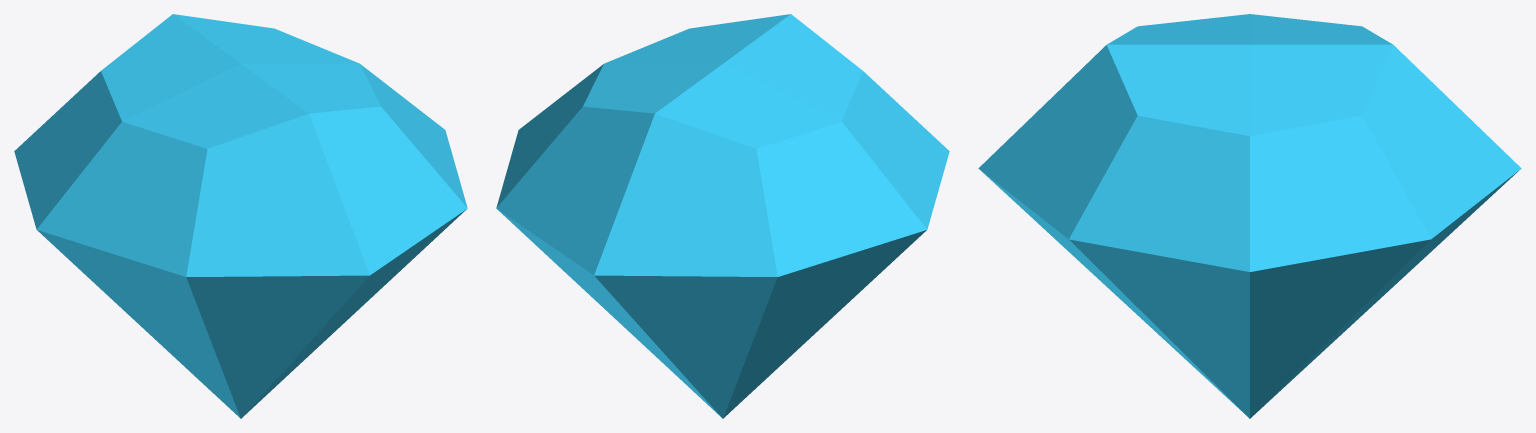
File: thystame.obj
The picture shows the model from 3 angles, left to right: view 1: azimuth 30°, elevation 25°; view 2: azimuth 150°, elevation 25°; view 3: azimuth 270°, elevation 25°; orthographic projection. The views are drawn at different scales.
Parts seen in each view (by area): view 1: Diamond_Plane.007; view 2: Diamond_Plane.007; view 3: Diamond_Plane.007.
Part boxes in pixels (x1,y1,x2,y2): Diamond_Plane.007: (14,14,467,418); Diamond_Plane.007: (496,14,949,418); Diamond_Plane.007: (978,14,1521,418).
Size of the model in its own units: 1.05 by 0.8749 by 1.15.
